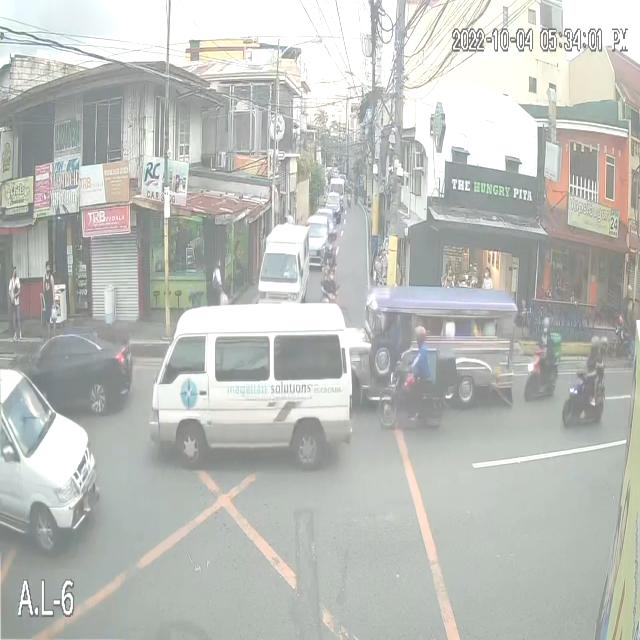Full-Faced: (411, 324, 426, 354), (596, 332, 611, 360), (540, 320, 552, 341), (590, 336, 596, 357)
